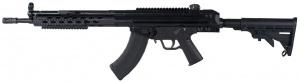rifle: (2, 1, 300, 83)
